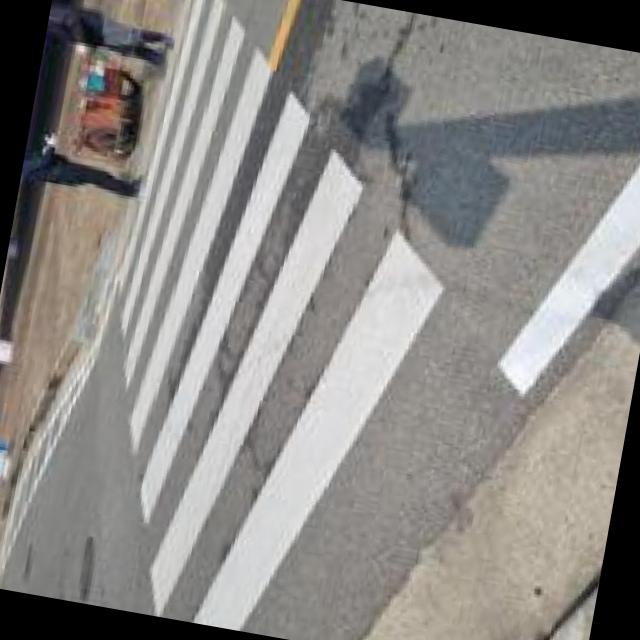zebra: (106, 0, 448, 631)
